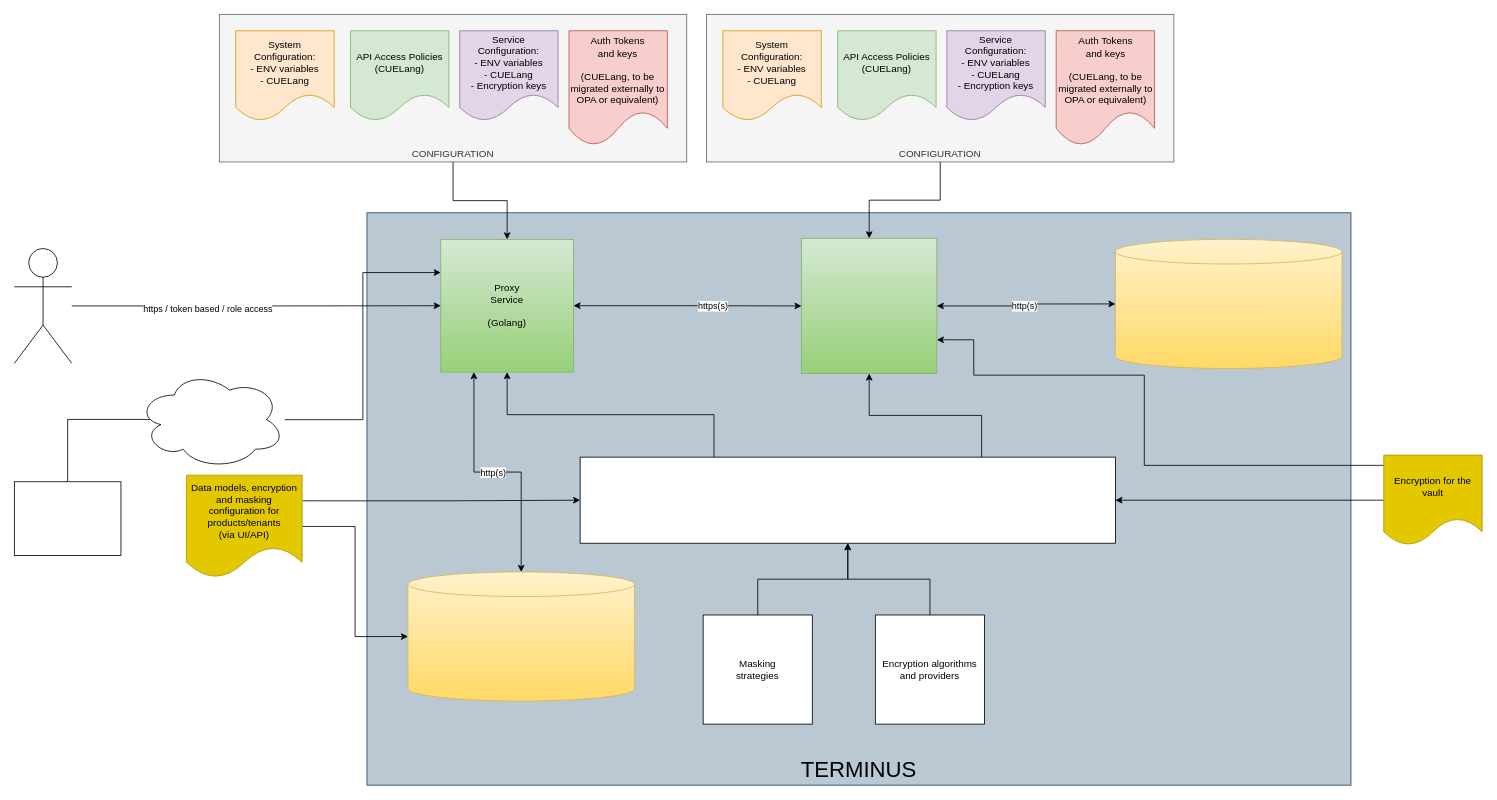
Image size: 1497x800. Some labels were removed from this diagram. The centre of each missing label's shape, as x and y in pixels:
"Actor" goes at point 43,305.
"Encryption & Masking SDK (Golang)" goes at point 847,499.
"KMS Service: - External - BYOK" goes at point 67,518.
"Persistence (Data vault)" goes at point 1228,304.
"Persistence (Proxy)" goes at point 520,636.
"Vault Service (Golang)" goes at point 869,305.
